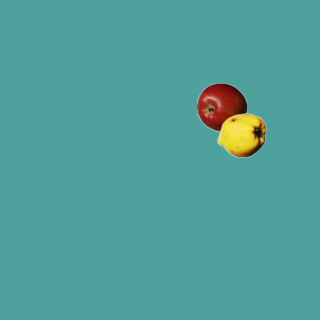Apple Braeburn: (196, 82, 246, 132)
Quince: (216, 110, 266, 160)
